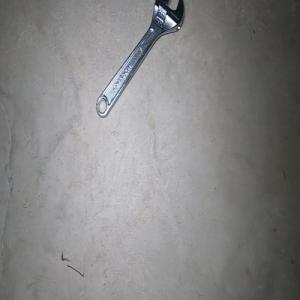Wrench: (96, 0, 184, 117)
